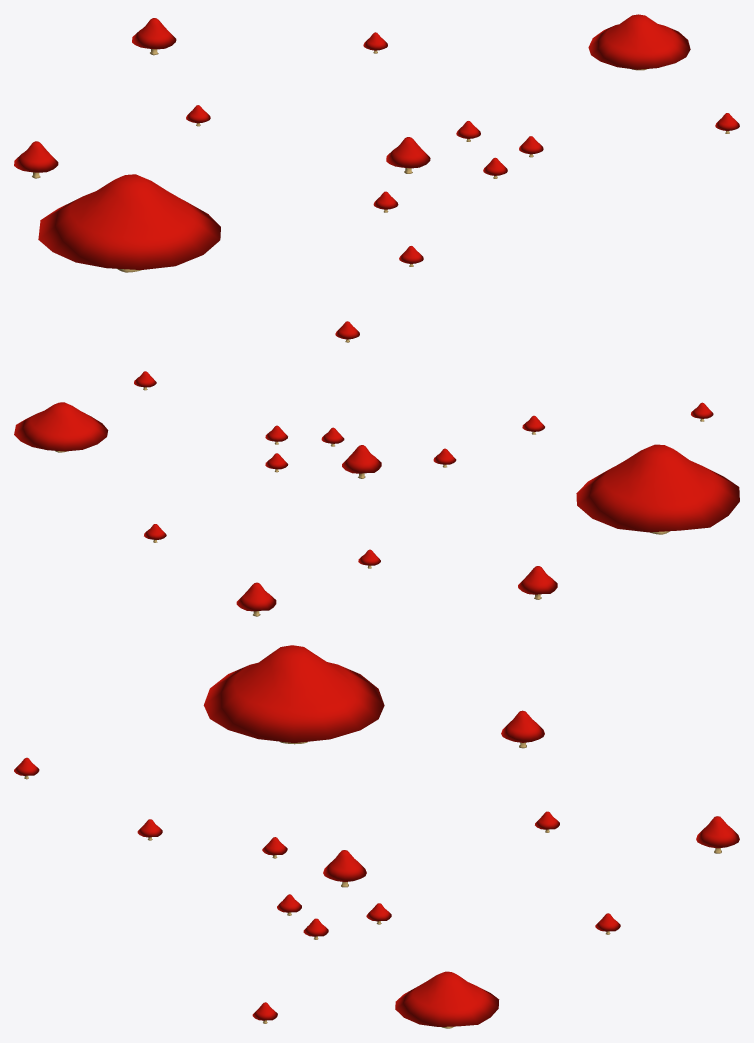
The model's file is Mushroom Patch.fbx.
3 views of the same model, one above another, from view 1: azimuth 30°, elevation 25°; view 2: azimuth 150°, elevation 25°; view 3: azimuth 270°, elevation 25° (orthographic). The views are drawn at different scales.
Parts seen in each view (by area): view 1: Mushroom Patch; view 2: Mushroom Patch; view 3: Mushroom Patch.
Boxes of the visible parts, x1=… form: Mushroom Patch: x1=14, y1=14, x2=739, y2=342; Mushroom Patch: x1=14, y1=371, x2=739, y2=616; Mushroom Patch: x1=14, y1=645, x2=739, y2=1028.
Size of the model in its own units: 4.32 by 0.5046 by 3.81.
